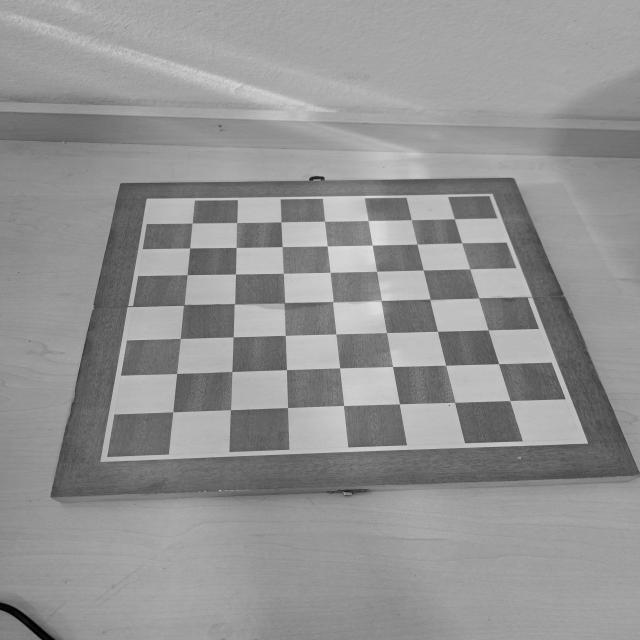chess-table-corners: (91, 443, 124, 468), (562, 428, 594, 448), (473, 188, 503, 206), (136, 192, 164, 210)
